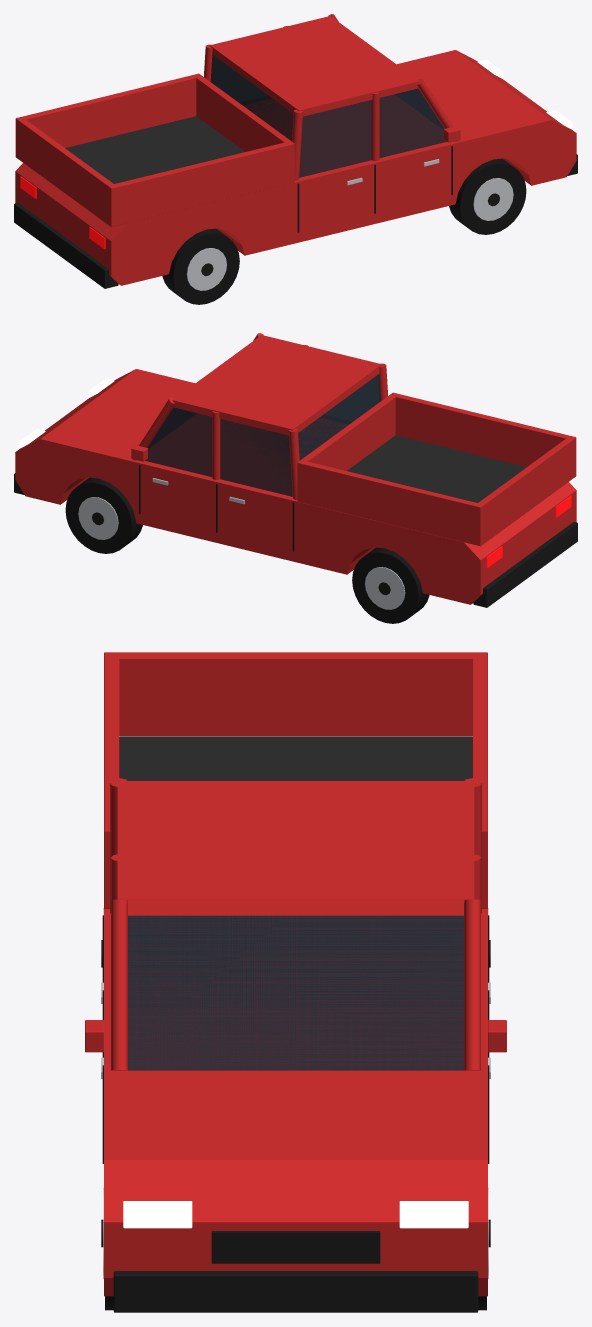
The model's file is a-realistic-red-pickup-truck-91401-realistic.glb.
3 renders of one model, top to bottom at view 1: azimuth 30°, elevation 25°; view 2: azimuth 150°, elevation 25°; view 3: azimuth 270°, elevation 25°, orthographic. The views are drawn at different scales.
Parts seen in each view (by area): view 1: car; view 2: car; view 3: car.
Boxes of the visible parts, box(x1,y1,x2,y2) form: car: box(14, 14, 577, 304); car: box(14, 333, 577, 623); car: box(85, 652, 506, 1312).
Size of the model in its own units: 5.7 by 1.94 by 2.2.
